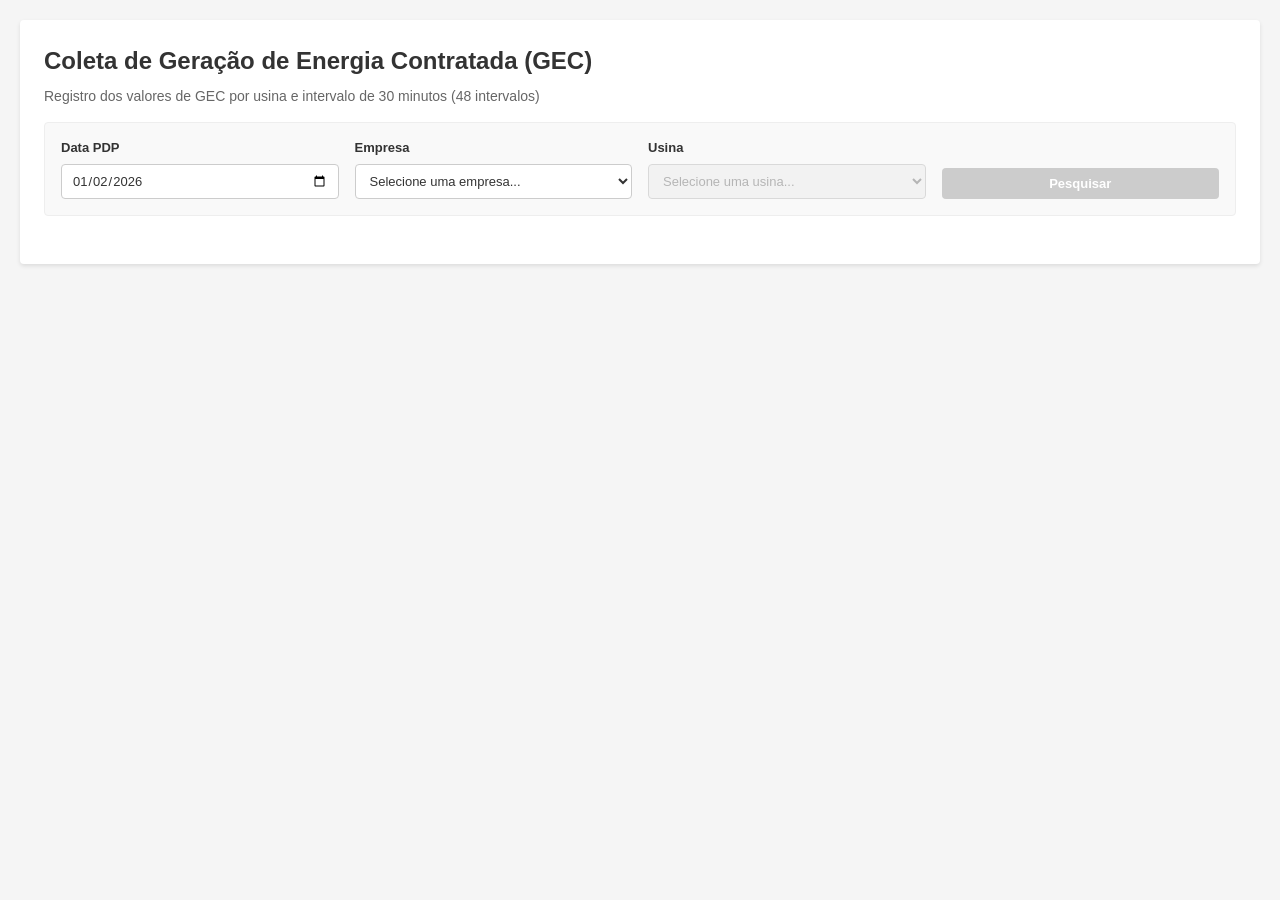
it: GEC Component › deve carregar dados para uma usina e exibir 48 intervalos
The width and height of the screenshot is (1280, 900).
Select "Empresa Geradora Norte" in the dropdown with test id "company-filter": (493, 181) x1=354 y1=164 x2=632 y2=199
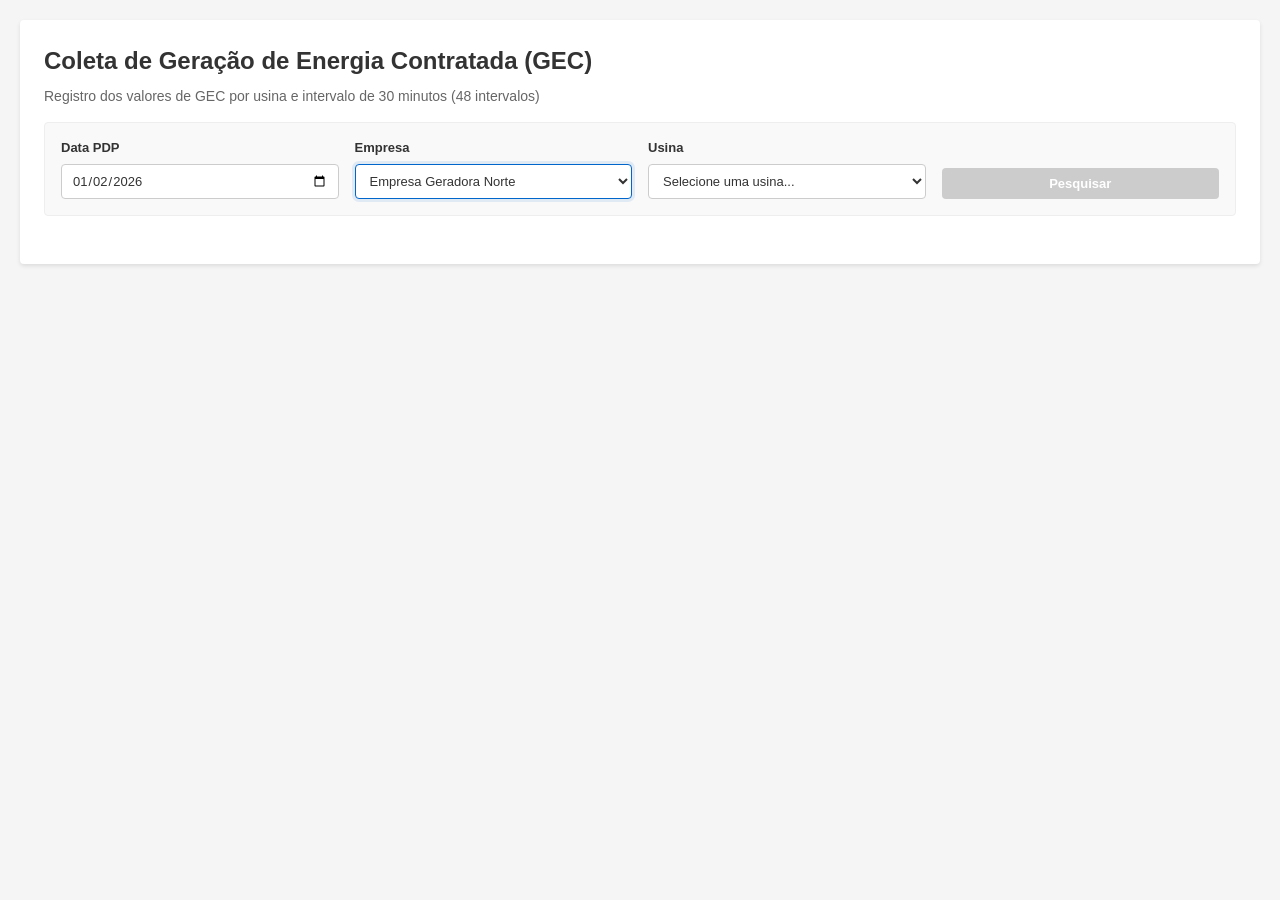
Select "Usina Geradora 1" in the dropdown with test id "plant-filter": (787, 181) x1=648 y1=164 x2=926 y2=199
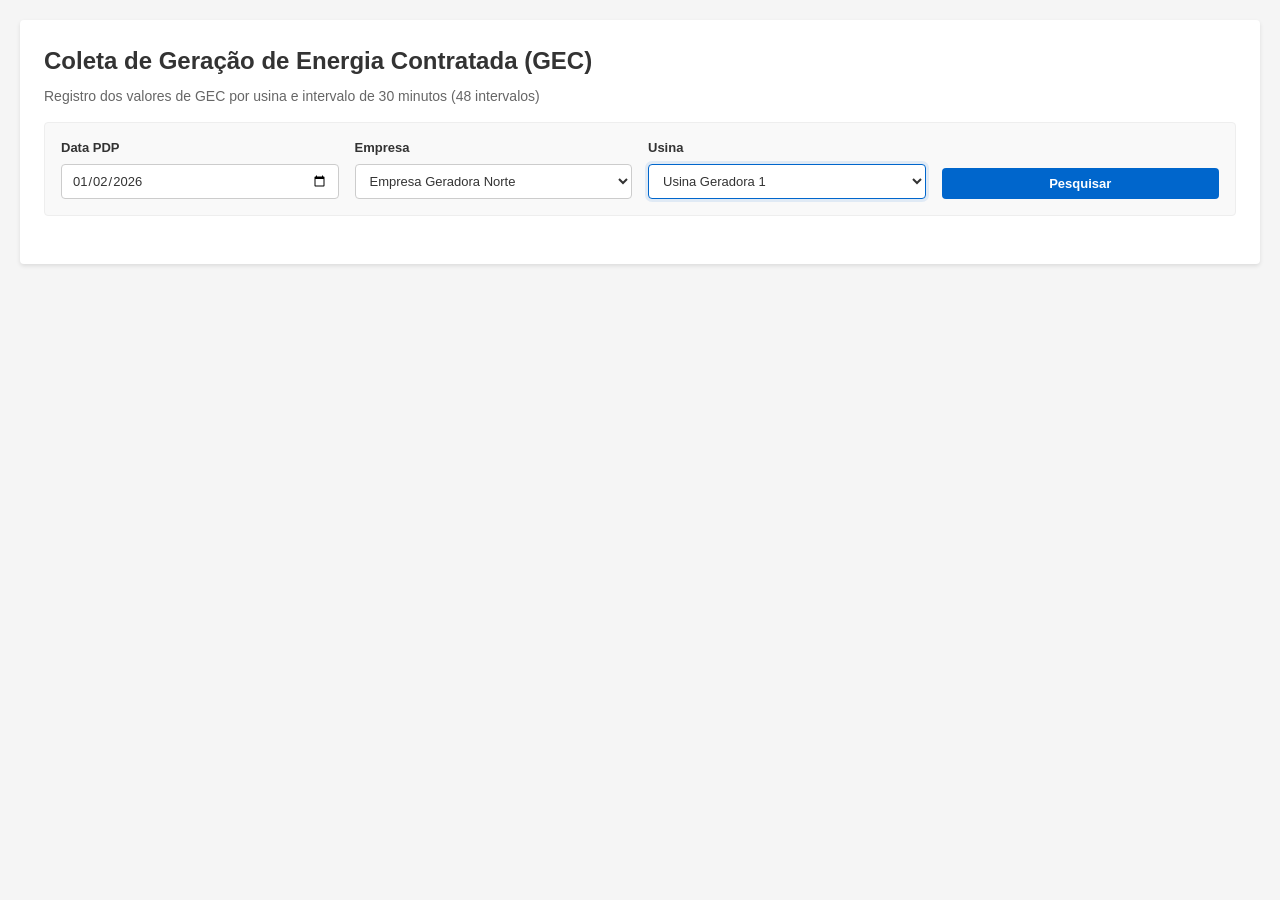
Click the button with test id "btn-search": (1080, 183) x1=942 y1=168 x2=1219 y2=199
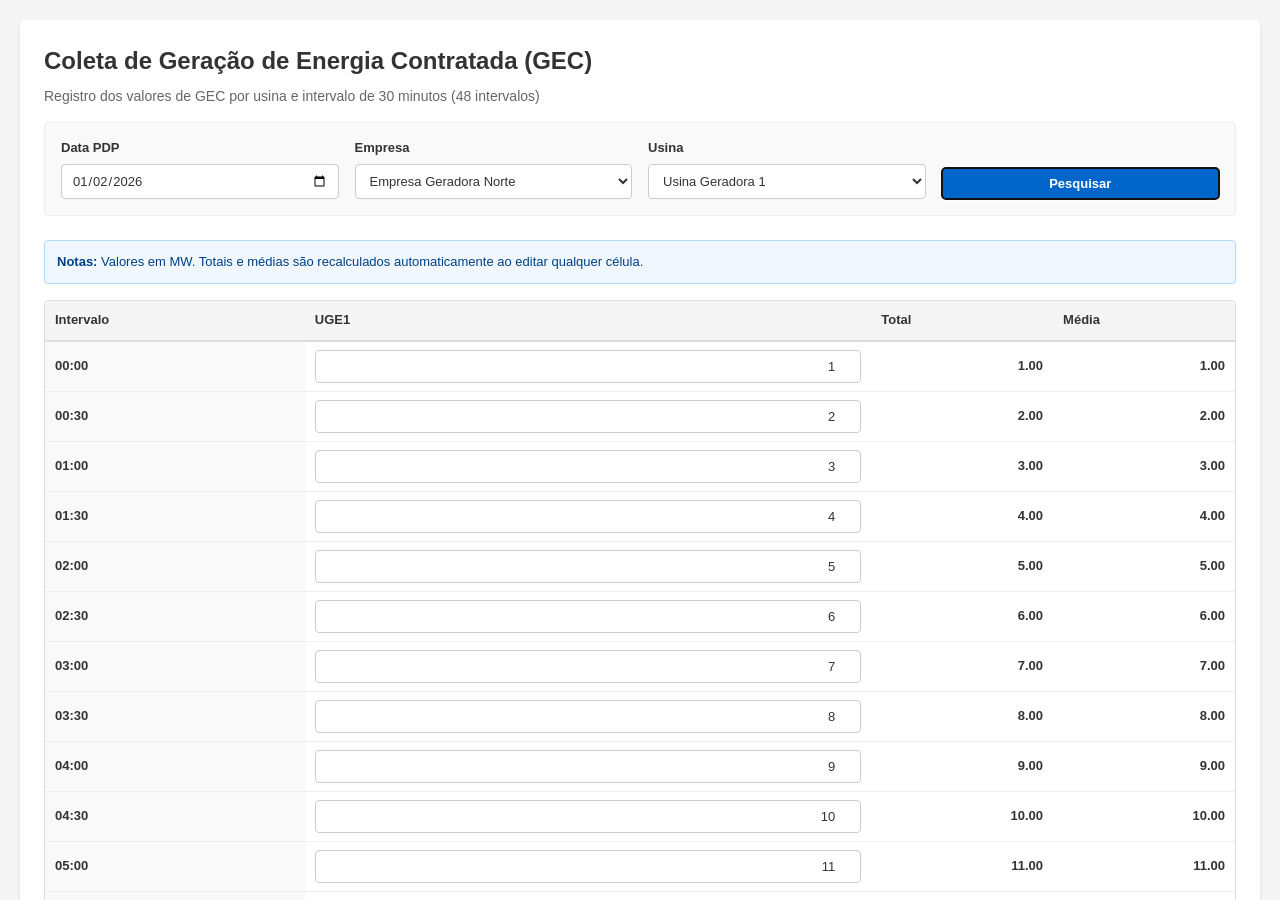
Expected: the number field with test id "input-1-UGE1" holds "1", x1=315 y1=350 x2=861 y2=383
Expected: the cell with test id "total-1" reads "1.00", x1=1018 y1=358 x2=1043 y2=373
